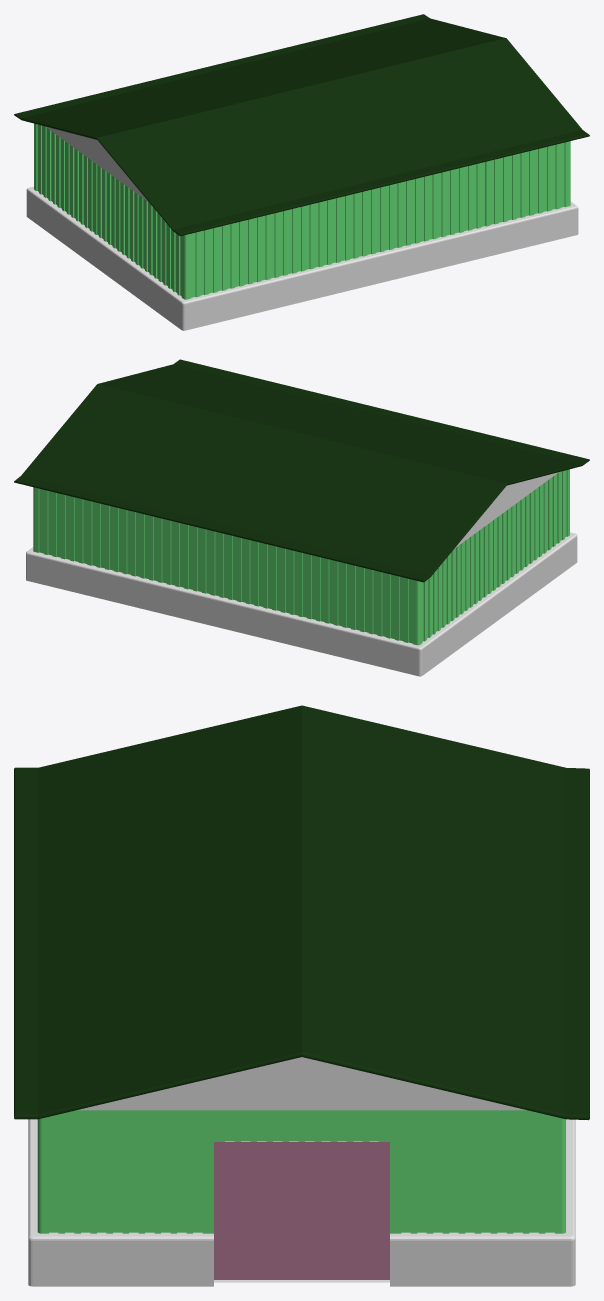
Rendered from garage.fbx.
The picture shows the model from 3 angles, top to bottom: view 1: azimuth 30°, elevation 25°; view 2: azimuth 150°, elevation 25°; view 3: azimuth 270°, elevation 25°; orthographic projection. The views are drawn at different scales.
Parts seen in each view (by area): view 1: Cube; view 2: Cube; view 3: Cube.
Boxes of the visible parts, <box> form: Cube: <box>14,14,589,330</box>; Cube: <box>14,359,589,676</box>; Cube: <box>14,705,589,1286</box>.
Size of the model in its own units: 867 by 277 by 606.
